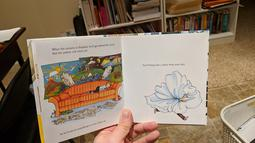text block: (54, 119, 113, 136), (46, 41, 117, 55), (135, 58, 188, 69)
